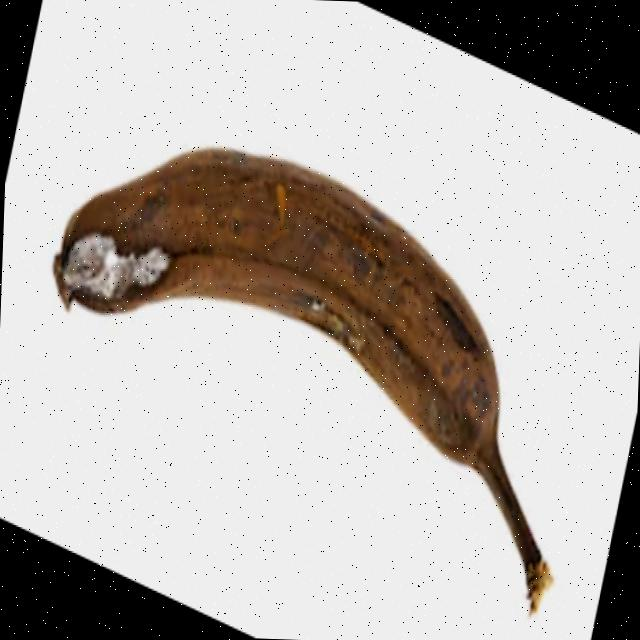rotten banana: (15, 125, 592, 519)
